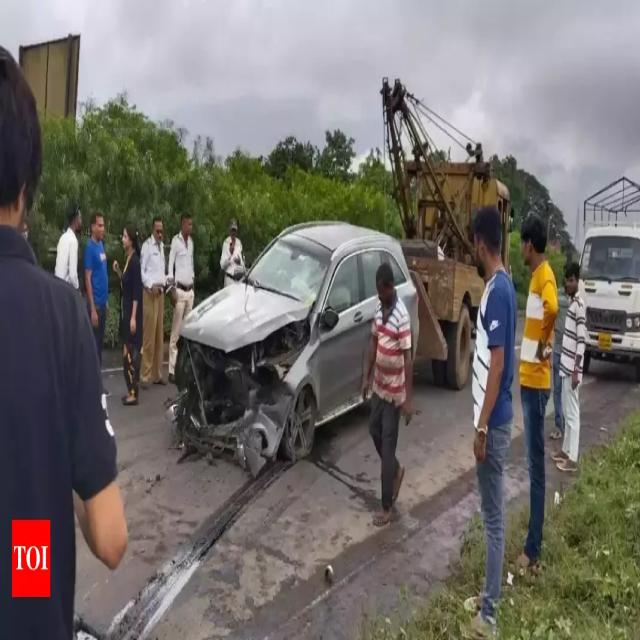crush: (164, 301, 315, 479)
